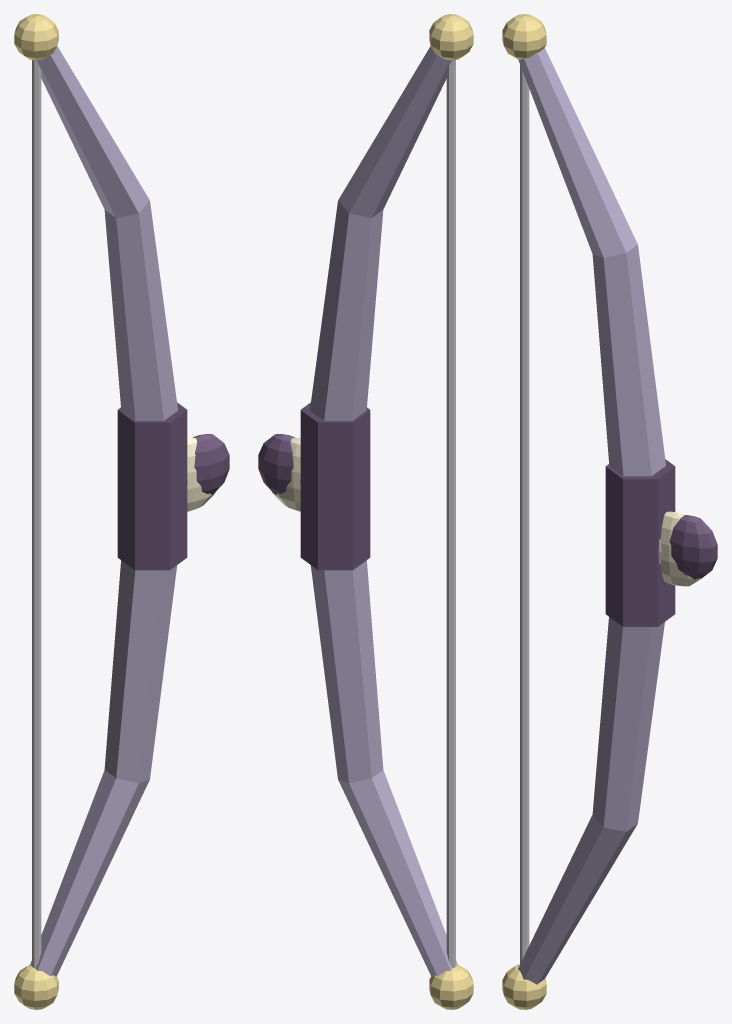
File: Moonbow.fbx
The picture shows the model from 3 angles, left to right: view 1: azimuth 30°, elevation 25°; view 2: azimuth 150°, elevation 25°; view 3: azimuth 330°, elevation 25°; orthographic projection.
Visible parts, largest first — view 1: Prop_Moonbow; view 2: Prop_Moonbow; view 3: Prop_Moonbow.
Boxes of the visible parts, bbox=[...] form: Prop_Moonbow: bbox=[14, 14, 229, 1009]; Prop_Moonbow: bbox=[258, 14, 473, 1009]; Prop_Moonbow: bbox=[502, 14, 717, 1009].
Size of the model in its own units: 0.2077 by 0.94 by 0.06.
